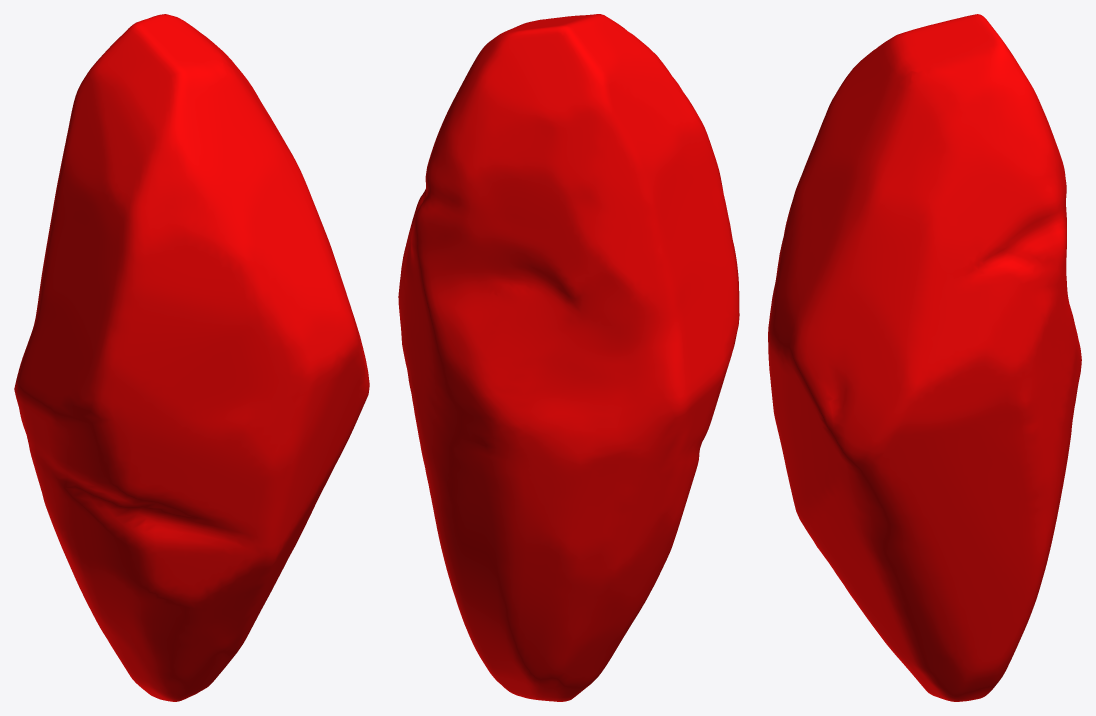
Rendered from crystal_painting.fbx.
The picture shows the model from 3 angles, left to right: view 1: azimuth 30°, elevation 25°; view 2: azimuth 150°, elevation 25°; view 3: azimuth 270°, elevation 25°; orthographic projection. The views are drawn at different scales.
Parts seen in each view (by area): view 1: C_Low; view 2: C_Low; view 3: C_Low.
Part boxes in pixels (bbox=[...]): C_Low: bbox=[14, 14, 369, 701]; C_Low: bbox=[398, 14, 739, 701]; C_Low: bbox=[768, 14, 1081, 701].
Size of the model in its own units: 255 by 544 by 232.
